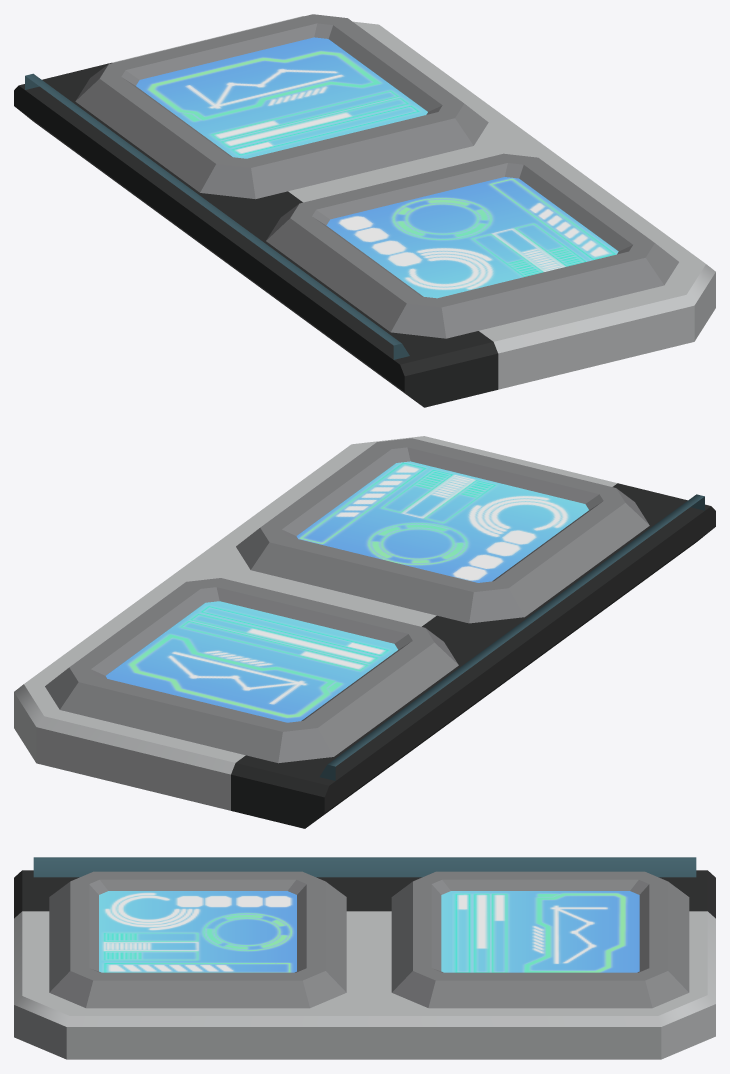
The model's file is Laptop_003.fbx.
3 views of the same model, one above another, from view 1: azimuth 30°, elevation 25°; view 2: azimuth 150°, elevation 25°; view 3: azimuth 270°, elevation 25° (orthographic). The views are drawn at different scales.
Parts seen in each view (by area): view 1: Laptop_003; view 2: Laptop_003; view 3: Laptop_003.
Part boxes in pixels (x1,y1,x2,y2): Laptop_003: (14,14,715,407); Laptop_003: (14,436,715,828); Laptop_003: (14,857,715,1059).
Size of the model in its own units: 16.77 by 33.31 by 3.08.
